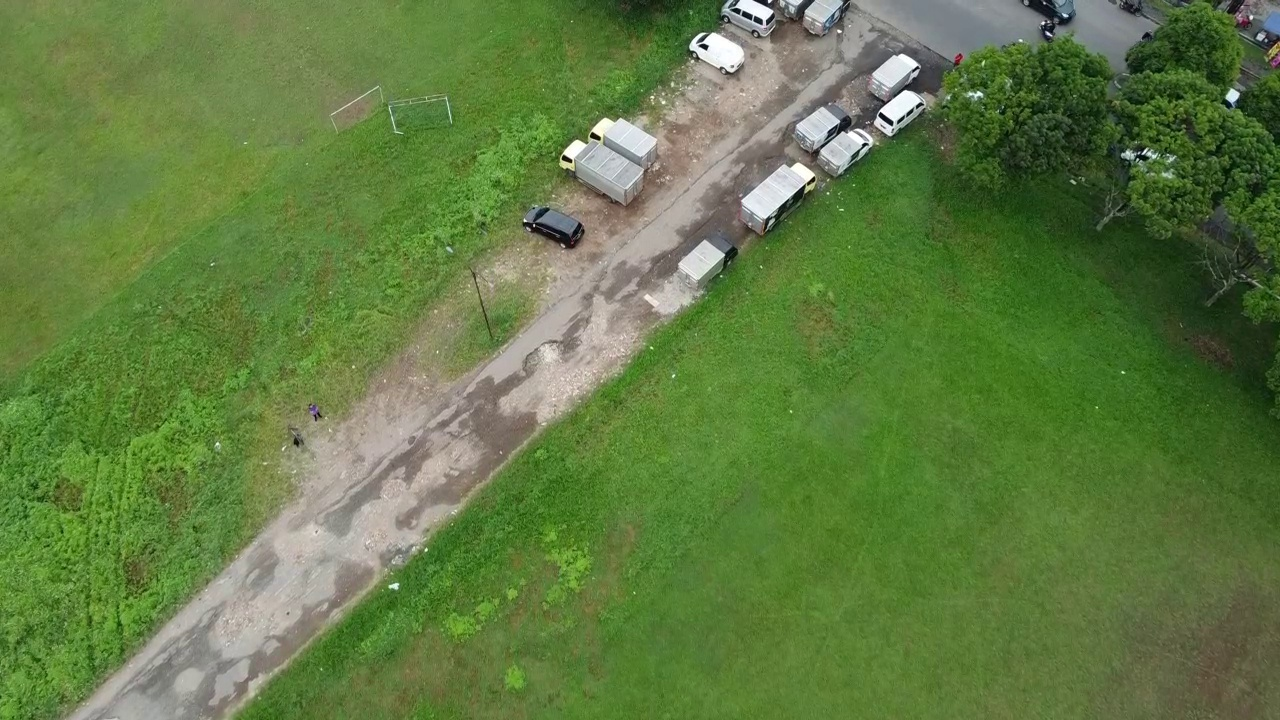mobil: (515, 197, 587, 253), (688, 28, 749, 79), (876, 85, 930, 141), (724, 1, 780, 40), (1019, 1, 1084, 28)
